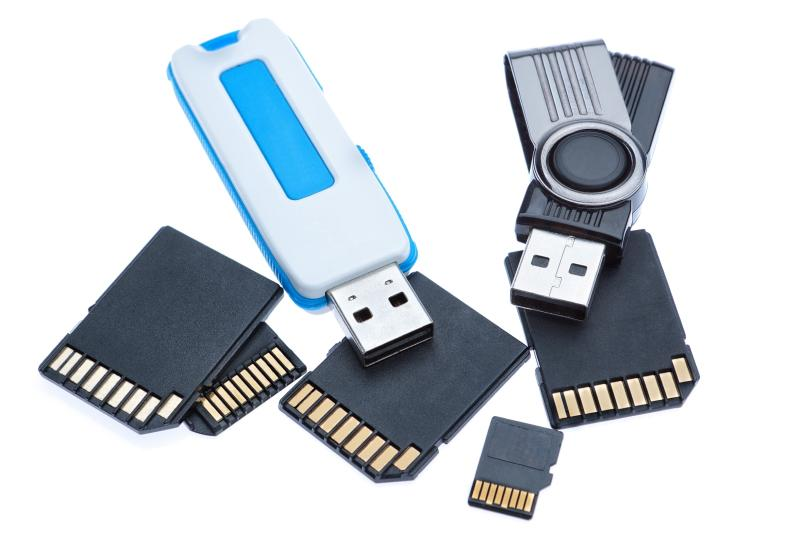USB Flash Drive: (165, 17, 433, 368), (504, 39, 675, 322)
